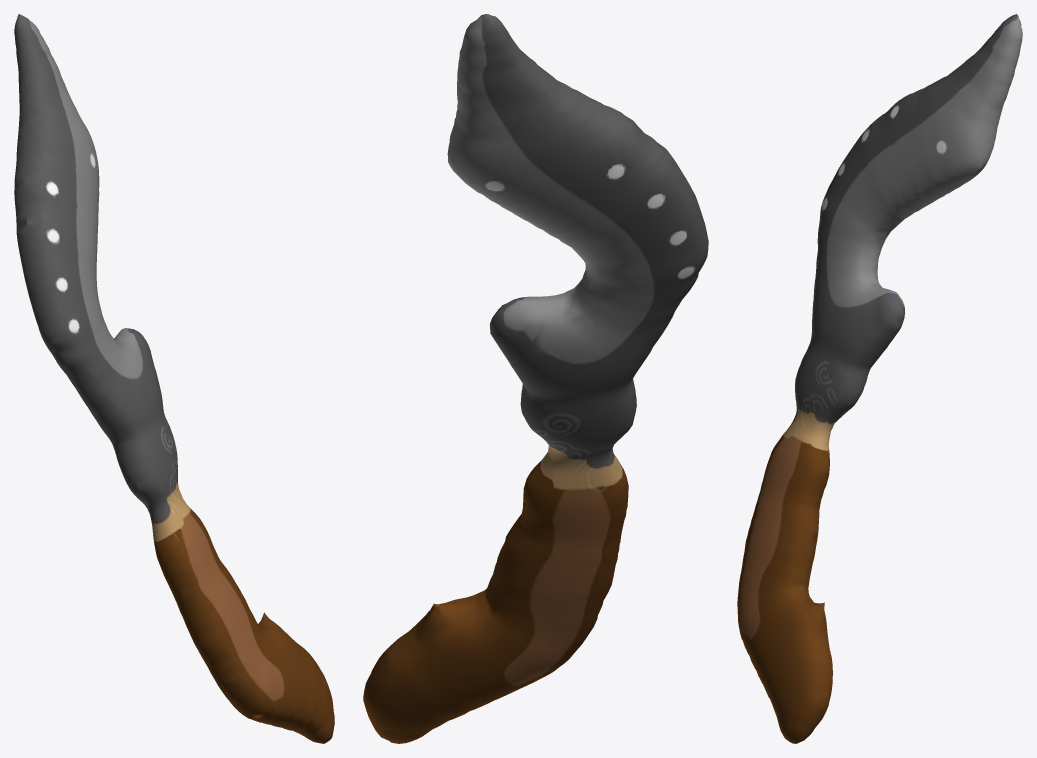
The model's file is kujang.glb.
The picture shows the model from 3 angles, left to right: view 1: azimuth 30°, elevation 25°; view 2: azimuth 150°, elevation 25°; view 3: azimuth 270°, elevation 25°; orthographic projection. The views are drawn at different scales.
Visible parts, largest first — view 1: Object_5; view 2: Object_5; view 3: Object_5.
Boxes of the visible parts, x1,y1,x2,y2 form: Object_5: (14,14,334,743); Object_5: (363,14,708,743); Object_5: (737,14,1022,743).
Size of the model in its own units: 0.281 by 0.6706 by 0.2697.
1 material, 1 textured.
